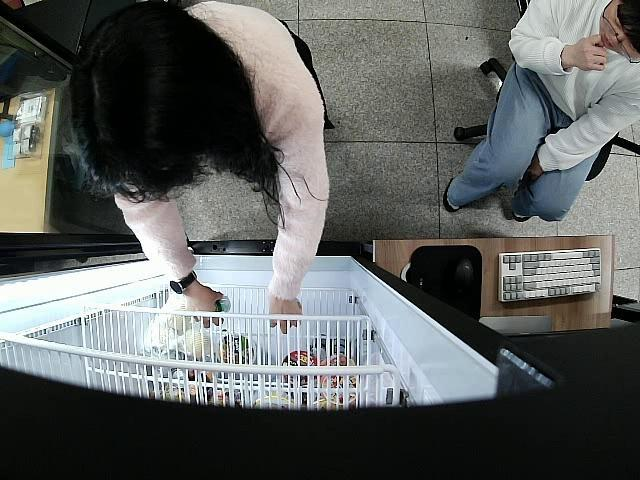12_chilsungCider: (210, 296, 232, 317)
